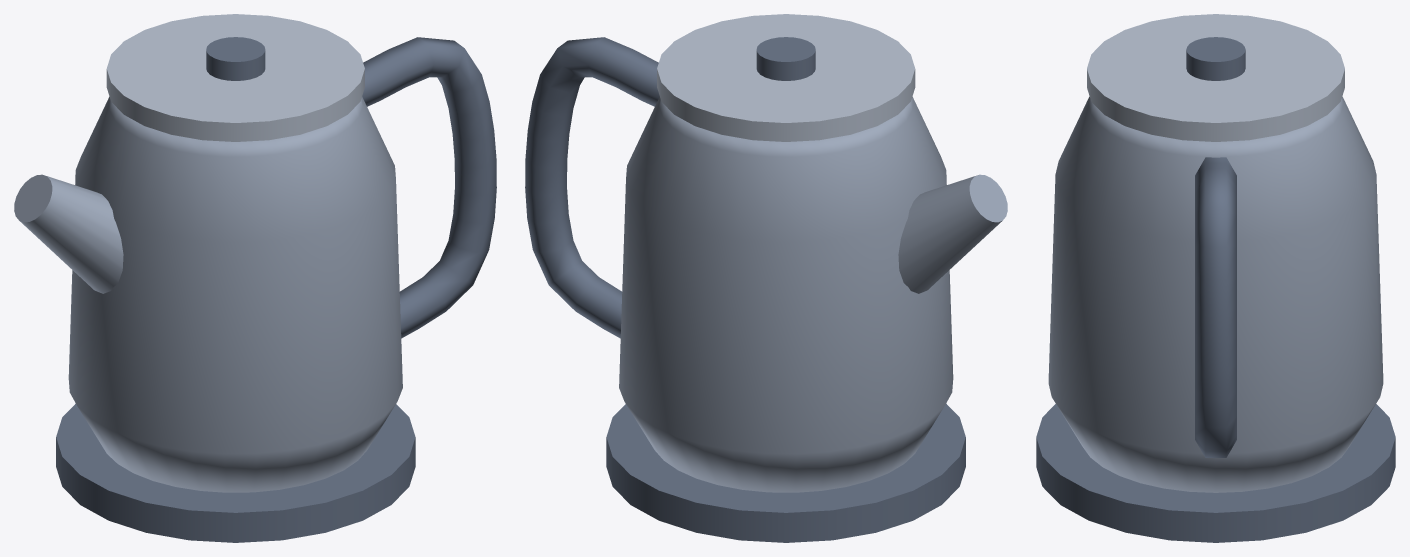
File: electric-kettle.glb
3 renders of one model, left to right at view 1: azimuth 30°, elevation 25°; view 2: azimuth 150°, elevation 25°; view 3: azimuth 270°, elevation 25°, orthographic.
Parts seen in each view (by area): view 1: body, dark, soft; view 2: body, dark, soft; view 3: body, dark, soft.
Part boxes in pixels (x1,y1,x2,y2): body: (14, 96, 402, 492); dark: (56, 37, 496, 542); soft: (106, 14, 364, 141); body: (619, 96, 1007, 492); dark: (525, 37, 965, 542); soft: (657, 14, 915, 141); body: (1048, 96, 1383, 492); dark: (1036, 37, 1395, 542); soft: (1087, 14, 1344, 141).
Size of the model in its own units: 0.3127 by 0.264 by 0.206.
